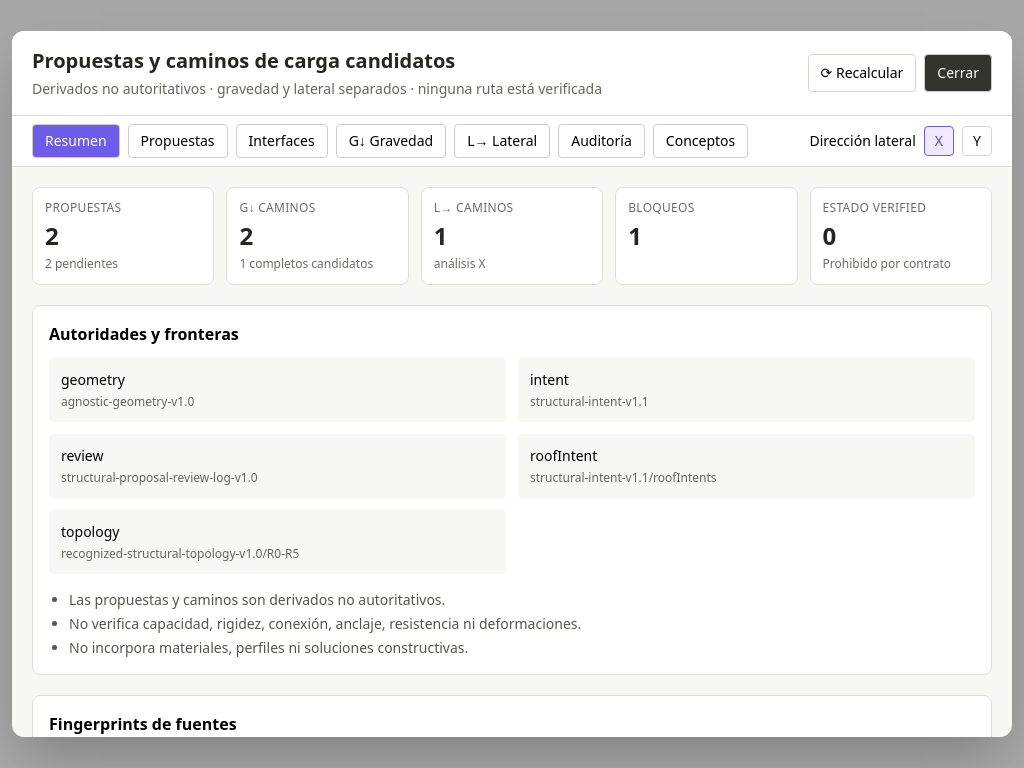
Scenario: SPEC-015-D: Localizar es temporal y no crea historial ni trace
This screenshot has width=1024, height=768.
Click the button "Propuestas". click: (178, 141)
box: x1=128 y1=124 x2=228 y2=158
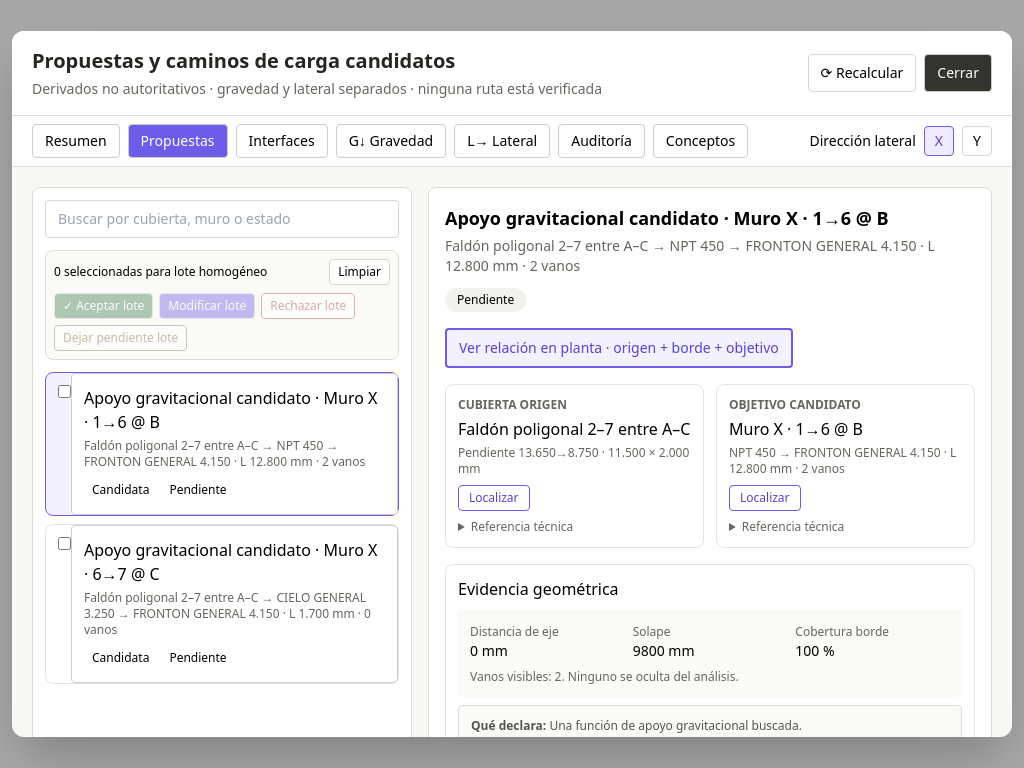
Click the button "Localizar" below "Cubierta origen". click: (494, 498)
box: x1=458 y1=485 x2=530 y2=511
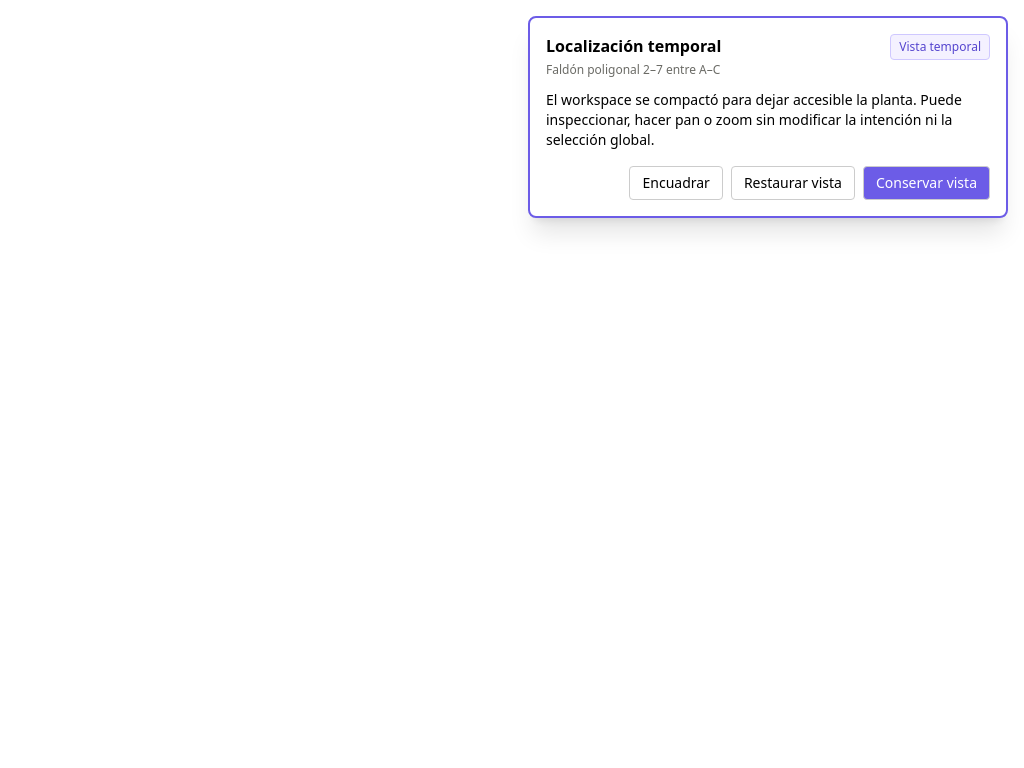
Expected: the dialog named "Localizador de propuesta estructural" is shown
Press Escape in the dialog named "Localizador de propuesta estructural", box x1=528 y1=16 x2=1008 y2=218
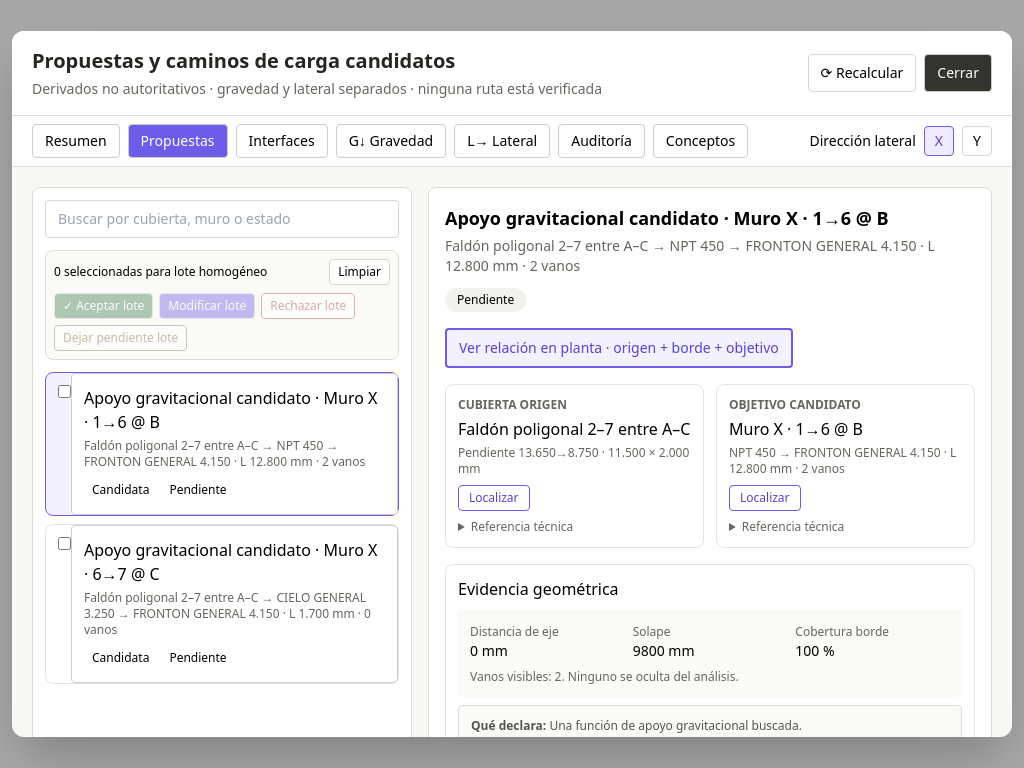
Expected: the dialog named "Propuestas estructurales y caminos candidatos" is shown
